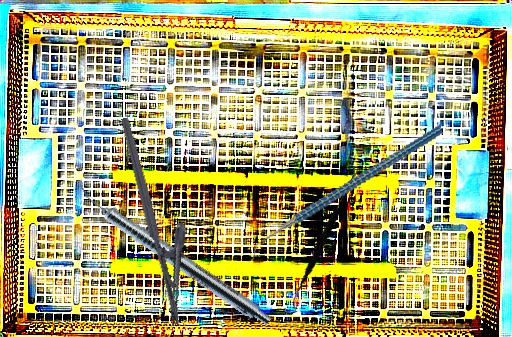Chopper: (232, 124, 462, 265)
Handpiece: (70, 180, 277, 330)
Needle Holder: (119, 109, 209, 328)
Spatula Surgical: (273, 159, 374, 314)
